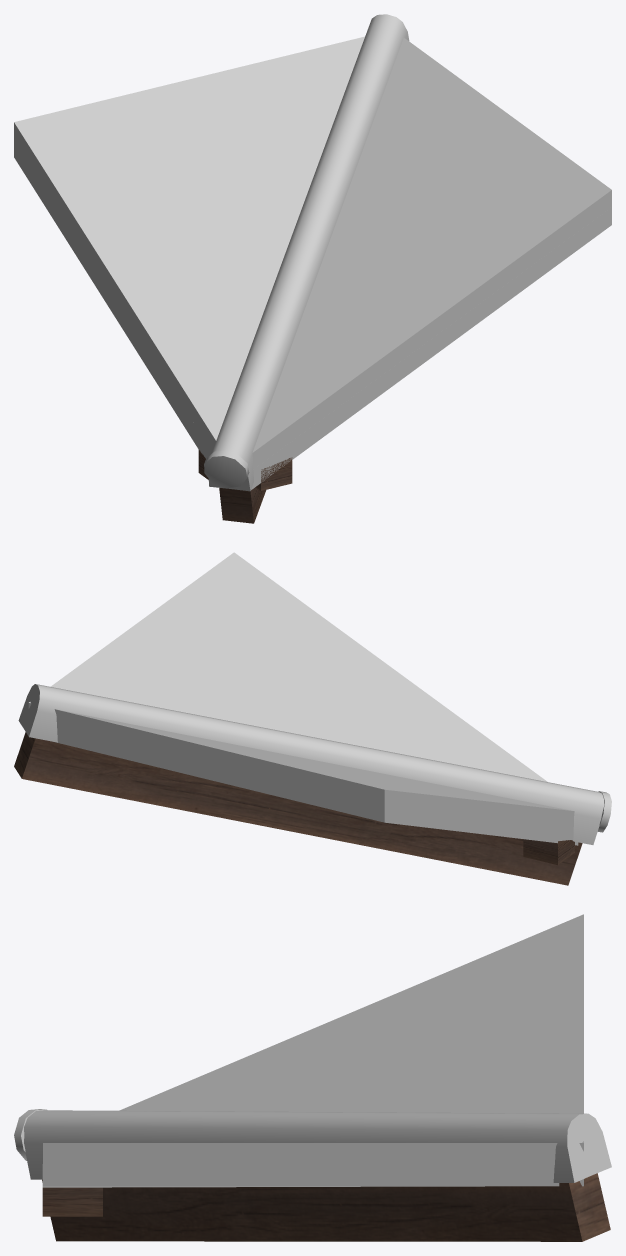
Rendered from kawara_2x1t_a1corner_cav.fbx.
3 views of the same model, one above another, from view 1: azimuth 30°, elevation 25°; view 2: azimuth 150°, elevation 25°; view 3: azimuth 270°, elevation 25° (orthographic). The views are drawn at different scales.
Visible parts, largest first — view 1: kawara_2x1t_a1corner_cav; view 2: kawara_2x1t_a1corner_cav; view 3: kawara_2x1t_a1corner_cav.
Part boxes in pixels (x1,y1,x2,y2): kawara_2x1t_a1corner_cav: [14, 14, 611, 523]; kawara_2x1t_a1corner_cav: [14, 552, 611, 885]; kawara_2x1t_a1corner_cav: [14, 914, 611, 1241].
Bounding box in the file's own units: 175 × 107 × 174.
